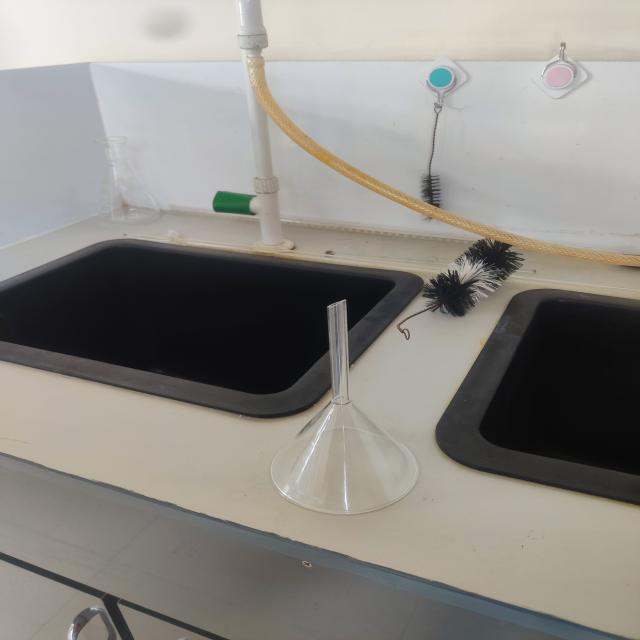Funnel: (235, 274, 451, 543)
